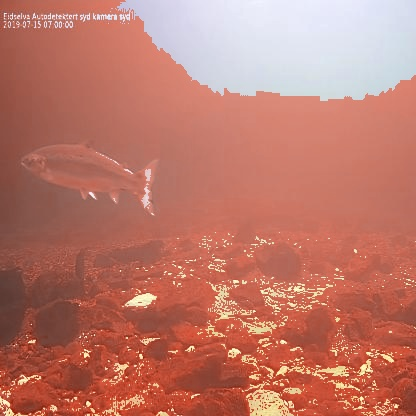salmon: (19, 133, 161, 220)
